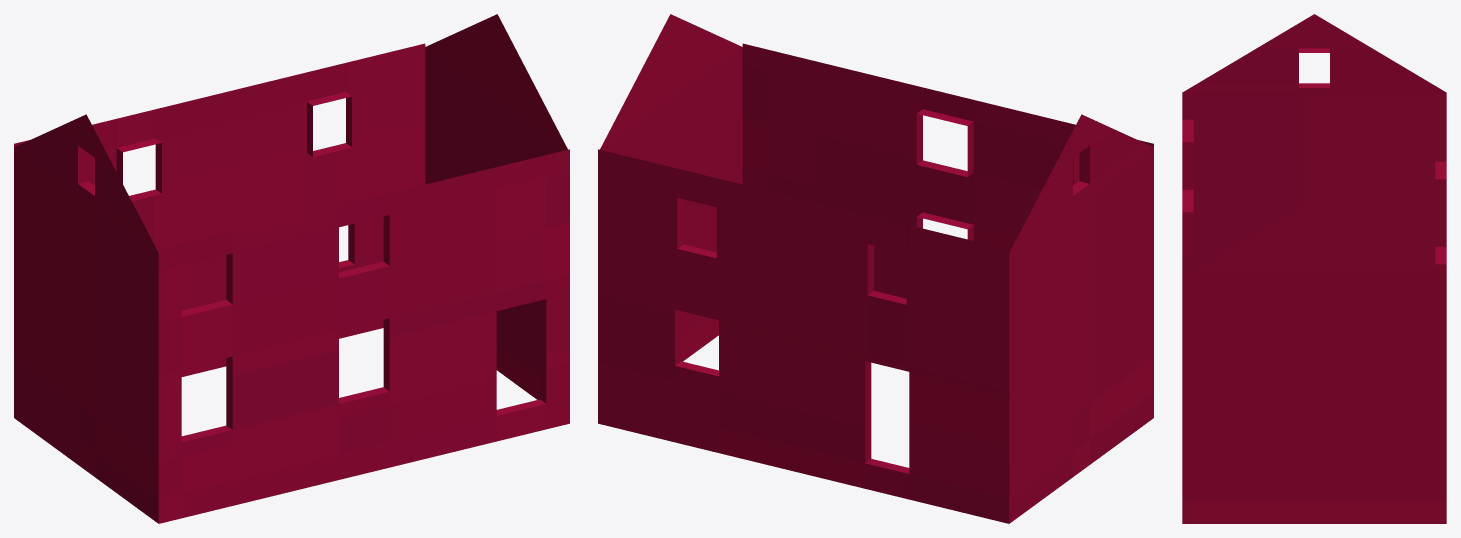
The model's file is SM_Bld_026_Masonry.glb.
The picture shows the model from 3 angles, left to right: view 1: azimuth 30°, elevation 25°; view 2: azimuth 150°, elevation 25°; view 3: azimuth 270°, elevation 25°; orthographic projection. The views are drawn at different scales.
Visible parts, largest first — view 1: SM_Bld_026_Masonry; view 2: SM_Bld_026_Masonry; view 3: SM_Bld_026_Masonry.
Boxes of the visible parts, x1,y1,x2,y2 form: SM_Bld_026_Masonry: (14, 14, 569, 523); SM_Bld_026_Masonry: (598, 14, 1153, 523); SM_Bld_026_Masonry: (1182, 14, 1446, 523).
Size of the model in its own units: 8.42 by 6.98 by 5.13.
